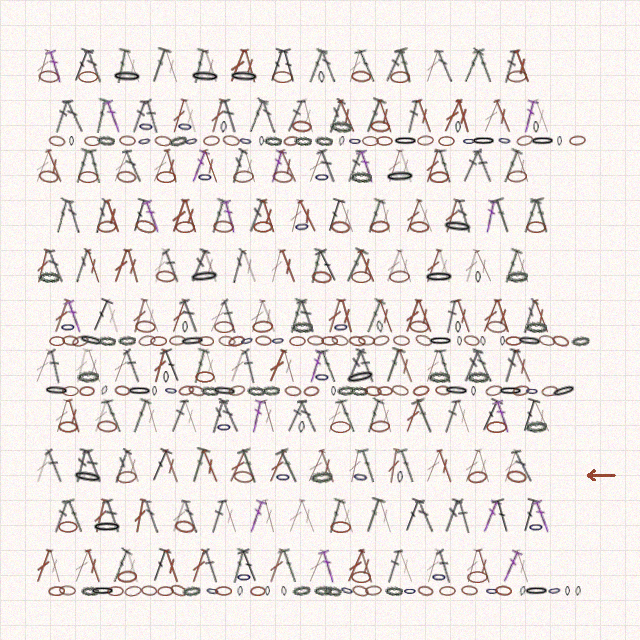chain: (345, 368, 376, 386), (72, 469, 103, 485), (442, 219, 473, 234), (189, 269, 220, 284), (551, 383, 577, 399), (134, 218, 157, 235), (112, 70, 142, 83), (190, 70, 220, 83), (229, 70, 259, 83), (385, 170, 415, 183), (78, 333, 104, 348), (424, 271, 454, 283), (92, 521, 122, 533), (310, 470, 333, 484), (38, 169, 59, 184), (506, 469, 527, 484), (174, 519, 195, 534), (180, 335, 205, 347), (517, 335, 542, 347), (212, 385, 237, 397), (116, 170, 137, 184), (272, 170, 293, 184), (330, 220, 351, 234), (311, 270, 332, 284), (486, 320, 507, 334), (116, 470, 137, 484), (233, 470, 254, 484), (467, 470, 488, 484), (38, 70, 60, 83), (330, 120, 352, 133), (506, 270, 528, 283), (77, 370, 99, 383), (525, 420, 547, 433), (414, 333, 433, 348), (169, 583, 188, 598), (168, 134, 188, 148), (44, 385, 69, 396), (444, 385, 469, 396), (291, 120, 312, 133), (233, 170, 254, 183), (213, 220, 234, 233), (369, 220, 390, 233), (155, 270, 176, 283), (389, 270, 410, 283), (135, 320, 156, 333), (252, 320, 273, 333), (71, 334, 90, 348), (227, 334, 246, 348), (551, 334, 570, 348), (187, 384, 206, 398), (351, 584, 370, 598), (350, 171, 372, 183), (38, 271, 60, 283), (291, 321, 313, 333), (525, 321, 547, 333), (428, 371, 450, 383), (467, 371, 489, 383), (351, 70, 371, 83), (507, 70, 527, 83), (370, 120, 390, 133), (507, 170, 527, 183), (97, 220, 117, 233), (409, 320, 429, 333), (97, 420, 117, 433), (370, 420, 390, 433), (117, 570, 137, 583), (272, 71, 293, 83), (330, 421, 351, 433), (486, 421, 507, 433), (330, 521, 351, 533), (467, 571, 488, 583), (393, 136, 418, 146), (471, 136, 496, 146), (530, 136, 555, 146), (428, 336, 453, 346), (127, 386, 152, 396), (498, 386, 523, 396), (90, 586, 115, 596), (524, 586, 549, 596), (292, 584, 311, 597), (78, 71, 98, 83), (390, 71, 410, 83), (78, 171, 98, 183), (156, 171, 176, 183), (429, 171, 449, 183), (175, 221, 195, 233), (253, 221, 273, 233), (409, 221, 429, 233), (526, 221, 546, 233), (351, 271, 371, 283), (214, 321, 234, 333), (195, 371, 215, 383), (58, 421, 78, 433), (58, 521, 78, 533), (351, 571, 371, 583), (352, 470, 369, 484), (222, 134, 240, 147), (516, 134, 534, 147), (138, 334, 156, 347), (331, 334, 349, 347), (372, 334, 390, 347), (538, 334, 556, 347), (228, 384, 246, 397), (391, 384, 409, 397), (412, 384, 430, 397), (485, 384, 503, 397), (512, 384, 530, 397), (571, 335, 590, 347), (182, 585, 201, 597), (323, 585, 342, 597), (463, 334, 480, 347), (178, 384, 195, 397), (48, 135, 66, 147), (154, 135, 172, 147), (218, 335, 236, 347), (348, 335, 366, 347), (284, 385, 302, 397), (364, 385, 382, 397), (541, 385, 559, 397), (124, 585, 142, 597), (138, 120, 154, 133), (177, 120, 193, 133), (294, 220, 310, 233), (239, 334, 255, 347), (339, 584, 355, 597), (283, 135, 300, 147), (303, 385, 320, 397), (417, 585, 434, 597), (97, 135, 115, 146), (118, 335, 136, 346), (262, 385, 280, 396), (337, 385, 355, 396), (314, 585, 332, 596), (197, 171, 213, 183), (314, 171, 330, 183), (60, 321, 76, 333), (333, 321, 349, 333), (314, 371, 330, 383), (216, 421, 232, 433), (275, 471, 291, 483), (528, 521, 544, 533), (236, 571, 252, 583), (431, 571, 447, 583), (119, 135, 136, 146), (203, 135, 220, 146), (417, 135, 434, 146), (569, 135, 586, 146), (62, 335, 79, 346), (169, 335, 186, 346), (255, 335, 272, 346), (307, 335, 324, 346), (358, 335, 375, 346), (393, 335, 410, 346), (114, 385, 131, 396), (59, 585, 76, 596), (365, 585, 382, 596), (461, 585, 478, 596), (495, 585, 512, 596), (137, 135, 152, 147), (184, 135, 199, 147), (238, 135, 253, 147), (264, 136, 282, 146), (294, 136, 312, 146), (315, 136, 333, 146), (98, 336, 116, 346), (201, 386, 219, 396), (247, 386, 265, 396), (350, 386, 368, 396), (81, 586, 99, 596), (205, 585, 220, 597), (385, 586, 403, 596), (435, 385, 451, 396), (141, 585, 157, 596), (84, 136, 101, 146), (362, 136, 379, 146), (376, 136, 393, 146), (438, 136, 455, 146), (150, 336, 167, 346), (289, 336, 306, 346), (321, 336, 338, 346), (505, 336, 522, 346), (62, 386, 79, 396), (48, 586, 65, 596), (107, 586, 124, 596), (157, 586, 174, 596), (215, 586, 232, 596), (439, 586, 456, 596), (497, 135, 512, 146), (547, 585, 562, 596), (49, 336, 65, 346), (198, 336, 214, 346), (79, 386, 95, 396), (377, 386, 393, 396), (250, 586, 266, 596), (271, 335, 285, 346), (164, 385, 178, 396), (348, 136, 362, 146), (462, 136, 476, 146), (525, 386, 539, 396), (403, 586, 417, 596), (485, 586, 499, 596), (376, 320, 384, 333), (100, 385, 108, 396), (318, 71, 325, 83), (220, 121, 227, 133), (298, 421, 305, 433), (455, 121, 461, 133), (533, 121, 539, 133), (475, 271, 481, 283), (182, 321, 188, 333), (455, 321, 461, 333), (163, 371, 169, 383), (397, 471, 403, 483), (338, 136, 345, 146), (519, 586, 526, 596), (480, 336, 486, 346), (237, 586, 243, 596), (281, 586, 287, 596), (575, 586, 581, 596), (69, 136, 74, 146), (259, 136, 264, 146), (557, 136, 562, 146), (457, 336, 462, 346), (500, 336, 505, 346), (152, 386, 157, 396), (331, 386, 336, 396), (471, 386, 476, 396), (265, 586, 270, 596), (565, 586, 570, 596)
double: (341, 247, 369, 285), (275, 447, 303, 485), (314, 247, 342, 284), (411, 397, 438, 435), (477, 397, 504, 434), (361, 97, 387, 135), (459, 47, 485, 84), (88, 297, 114, 334), (159, 347, 185, 384), (147, 447, 173, 484), (237, 447, 262, 485), (69, 47, 94, 84), (147, 47, 172, 84), (303, 47, 328, 84), (354, 47, 379, 84), (244, 97, 269, 134), (498, 147, 523, 184), (490, 197, 515, 234), (361, 297, 386, 334), (381, 347, 406, 384), (127, 397, 152, 434), (361, 497, 386, 534), (400, 497, 425, 534), (108, 547, 133, 584), (237, 547, 262, 584), (276, 148, 301, 184), (295, 198, 320, 234), (205, 298, 230, 334), (225, 448, 250, 484), (303, 448, 328, 484), (265, 47, 289, 84), (362, 197, 386, 234), (518, 197, 542, 234), (530, 197, 554, 234), (499, 247, 523, 284), (316, 347, 340, 384), (101, 397, 125, 434), (335, 397, 359, 434), (187, 447, 211, 484), (62, 497, 86, 534), (148, 547, 172, 584), (335, 98, 359, 134), (440, 98, 464, 134), (479, 98, 503, 134), (491, 98, 515, 134), (148, 148, 172, 184), (316, 148, 340, 184), (413, 198, 437, 234), (187, 248, 211, 284), (355, 248, 379, 284), (472, 248, 496, 284), (265, 348, 289, 384), (343, 348, 367, 384), (460, 348, 484, 384), (511, 348, 535, 384), (530, 398, 554, 434), (82, 448, 106, 484), (265, 448, 289, 484), (421, 448, 445, 484), (304, 548, 328, 584), (343, 548, 367, 584), (499, 548, 523, 584), (394, 47, 417, 84), (472, 47, 495, 84), (70, 147, 93, 184), (128, 197, 151, 234), (206, 197, 229, 234), (323, 197, 346, 234), (284, 297, 307, 334), (362, 397, 385, 434), (518, 397, 541, 434), (323, 497, 346, 534), (491, 497, 514, 534), (518, 497, 541, 534), (277, 547, 300, 584), (226, 48, 249, 84), (511, 48, 534, 84), (413, 98, 436, 134), (530, 98, 553, 134), (31, 148, 54, 184), (43, 148, 66, 184), (304, 148, 327, 184), (245, 198, 268, 234), (199, 248, 222, 284), (238, 248, 261, 284), (277, 248, 300, 284), (382, 248, 405, 284), (50, 298, 73, 334), (140, 298, 163, 334), (179, 298, 202, 334), (257, 298, 280, 334), (296, 298, 319, 334), (401, 298, 424, 334), (479, 298, 502, 334), (530, 298, 553, 334), (31, 348, 54, 384), (109, 348, 132, 384), (226, 348, 249, 384), (394, 348, 417, 384), (323, 398, 346, 434), (160, 448, 183, 484), (199, 448, 222, 484), (316, 448, 339, 484), (460, 448, 483, 484), (511, 448, 534, 484), (284, 498, 307, 534), (479, 498, 502, 534), (70, 548, 93, 584), (265, 548, 288, 584), (278, 47, 300, 84), (51, 197, 73, 234), (188, 347, 210, 384), (356, 447, 378, 484), (395, 447, 417, 484), (227, 547, 249, 584), (122, 48, 144, 84), (200, 48, 222, 84), (63, 98, 85, 134), (102, 98, 124, 134), (219, 98, 241, 134), (324, 98, 346, 134), (110, 148, 132, 184), (188, 148, 210, 184), (200, 148, 222, 184), (383, 148, 405, 184), (395, 148, 417, 184), (102, 198, 124, 234), (141, 198, 163, 234), (168, 198, 190, 234), (336, 198, 358, 234), (402, 198, 424, 234), (110, 248, 132, 284), (422, 248, 444, 284), (63, 298, 85, 334), (168, 298, 190, 334), (246, 298, 268, 334), (375, 298, 397, 334), (414, 298, 436, 334), (492, 298, 514, 334), (83, 348, 105, 384), (90, 398, 112, 434), (402, 398, 424, 434), (32, 448, 54, 484), (110, 448, 132, 484), (122, 448, 144, 484), (434, 448, 456, 484), (102, 498, 124, 534), (168, 498, 190, 534), (219, 498, 241, 534), (297, 498, 319, 534), (336, 498, 358, 534), (441, 498, 463, 534), (531, 498, 553, 534), (32, 548, 54, 584), (161, 548, 183, 584), (395, 548, 417, 584), (188, 47, 209, 84), (90, 97, 111, 134), (434, 147, 455, 184), (305, 247, 326, 284), (434, 347, 455, 384), (383, 48, 405, 83), (473, 148, 495, 183), (285, 398, 307, 433), (161, 48, 182, 84), (422, 48, 443, 84), (180, 98, 201, 134), (207, 98, 228, 134), (375, 98, 396, 134), (453, 98, 474, 134), (122, 148, 143, 184), (227, 148, 248, 184), (239, 148, 260, 184), (356, 148, 377, 184), (422, 148, 443, 184), (512, 148, 533, 184), (180, 198, 201, 234), (258, 198, 279, 234), (441, 198, 462, 234), (83, 248, 104, 284), (395, 248, 416, 284), (434, 248, 455, 284), (461, 248, 482, 284), (512, 248, 533, 284), (102, 298, 123, 334), (129, 298, 150, 334), (324, 298, 345, 334), (453, 298, 474, 334), (200, 348, 221, 384), (278, 348, 299, 384), (422, 348, 443, 384), (51, 398, 72, 434), (141, 398, 162, 434), (180, 398, 201, 434), (207, 398, 228, 434), (219, 398, 240, 434), (258, 398, 279, 434), (297, 398, 318, 434), (453, 398, 474, 434), (492, 398, 513, 434), (473, 448, 494, 484), (500, 448, 521, 484), (246, 498, 267, 534), (375, 498, 396, 534), (44, 548, 65, 584), (83, 548, 104, 584), (122, 548, 143, 584), (188, 548, 209, 584), (356, 548, 377, 584), (422, 548, 443, 584), (512, 548, 533, 584), (111, 47, 131, 84), (434, 48, 455, 83), (285, 98, 306, 133), (461, 148, 482, 183), (161, 248, 182, 283), (122, 348, 143, 383), (356, 348, 377, 383), (473, 348, 494, 383), (44, 448, 65, 483), (33, 48, 53, 84), (45, 48, 65, 84), (240, 48, 260, 84), (345, 48, 365, 84), (169, 98, 189, 134), (298, 98, 318, 134), (84, 148, 104, 184), (267, 148, 287, 184), (45, 248, 65, 284), (123, 248, 143, 284), (150, 248, 170, 284), (337, 298, 357, 334), (150, 348, 170, 384), (306, 348, 326, 384), (501, 348, 521, 384), (64, 398, 84, 434), (376, 398, 396, 434), (259, 498, 279, 534), (415, 498, 435, 534), (318, 548, 338, 584), (462, 548, 482, 584), (474, 548, 494, 584), (318, 48, 338, 83), (345, 148, 365, 183), (72, 248, 92, 283), (169, 398, 189, 433), (201, 548, 221, 583), (84, 48, 103, 84), (130, 98, 149, 134), (259, 98, 278, 134), (520, 98, 539, 134), (162, 148, 181, 184), (220, 198, 239, 234), (286, 198, 305, 234), (33, 248, 52, 284), (267, 248, 286, 284), (220, 298, 239, 334), (520, 298, 539, 334), (72, 348, 91, 384), (442, 398, 461, 434), (72, 448, 91, 484), (345, 448, 364, 484), (52, 498, 71, 534), (91, 498, 110, 534), (142, 498, 161, 534), (181, 498, 200, 534), (435, 548, 454, 584), (53, 98, 71, 134), (143, 98, 161, 134), (92, 198, 110, 234), (377, 198, 395, 234), (229, 248, 247, 284), (248, 398, 266, 434), (131, 498, 149, 534), (209, 498, 227, 534), (455, 498, 473, 534), (385, 548, 403, 584), (502, 48, 519, 84), (65, 198, 82, 234), (455, 198, 472, 234), (482, 198, 499, 234), (241, 348, 258, 384), (385, 448, 402, 484), (405, 98, 421, 134), (47, 348, 63, 384), (444, 298, 459, 334)
noise: (584, 469, 616, 481)
